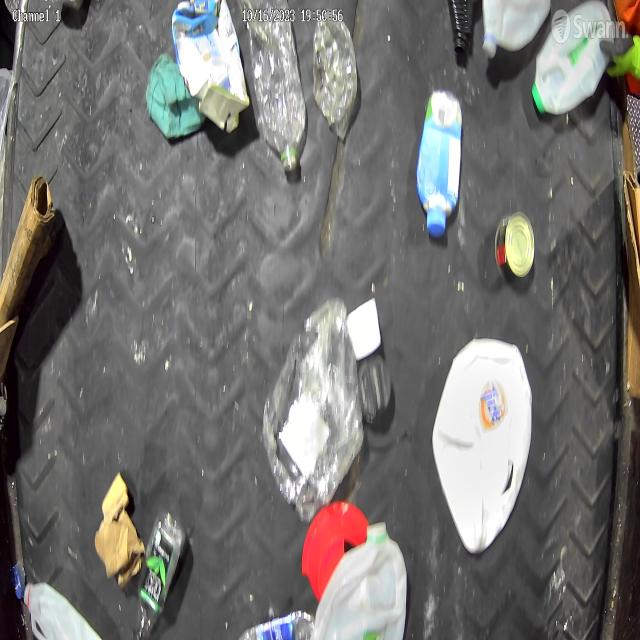can: (492, 212, 540, 294)
milk_jug: (434, 340, 530, 548), (312, 520, 410, 640), (534, 0, 619, 125), (17, 576, 103, 640), (478, 0, 556, 65)
plastic_bottle: (242, 2, 310, 180), (312, 2, 360, 150), (236, 610, 326, 640)
